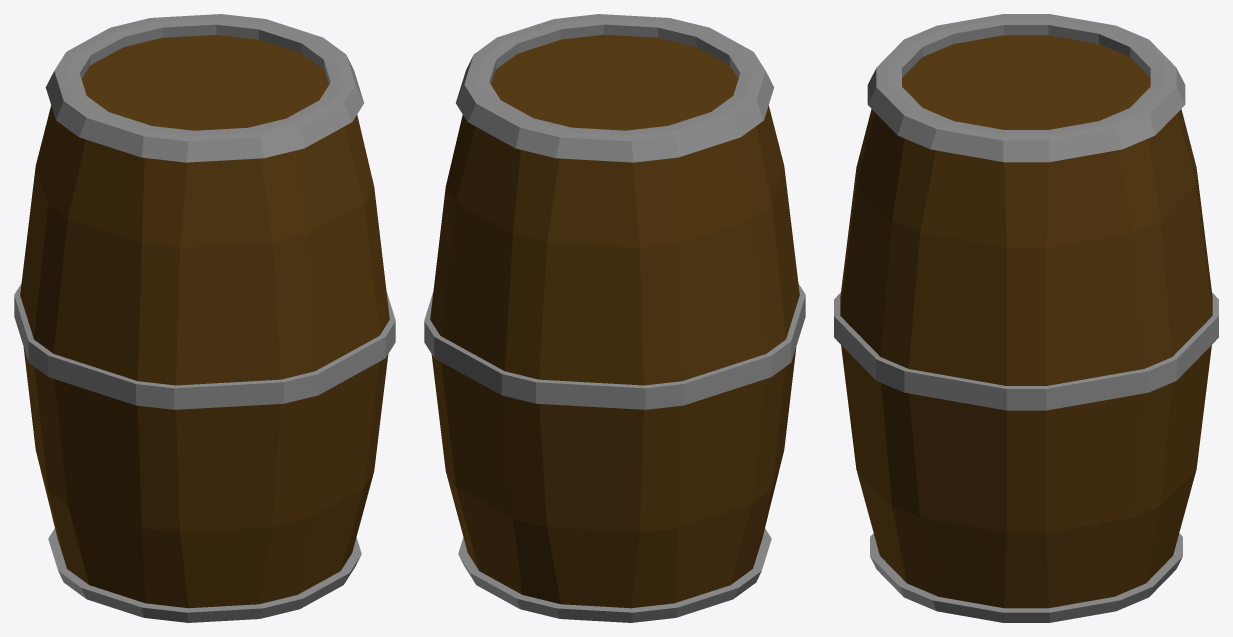
File: Barrel.fbx
3 renders of one model, left to right at view 1: azimuth 30°, elevation 25°; view 2: azimuth 150°, elevation 25°; view 3: azimuth 270°, elevation 25°, orthographic.
Parts seen in each view (by area): view 1: Cylinder; view 2: Cylinder; view 3: Cylinder.
Boxes of the visible parts, x1,y1,x2,y2 form: Cylinder: (14, 14, 395, 622); Cylinder: (424, 14, 805, 622); Cylinder: (834, 14, 1218, 622).
Bounding box in the file's own units: 291 × 403 × 291.
